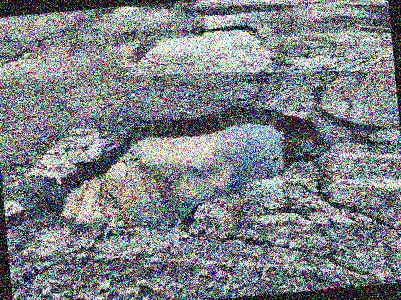pothole: (47, 96, 335, 241), (198, 19, 261, 39)
